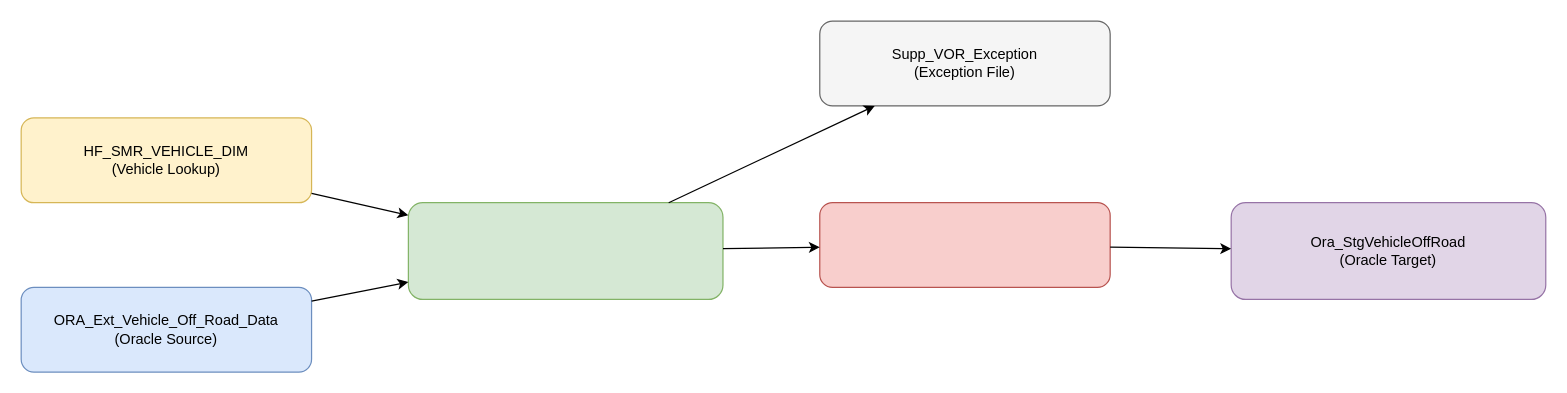
The diagram is 1567 pixels wide and 393 high, and some of its shapes have lost their labels. The centre of each missing label's shape, as x and y in pixels:
"HF_FACT_VOR_DATA (Hash Stage)" goes at (x=964, y=244).
"Tfm_LoadRecords (Transformer Stage)" goes at (x=565, y=250).
